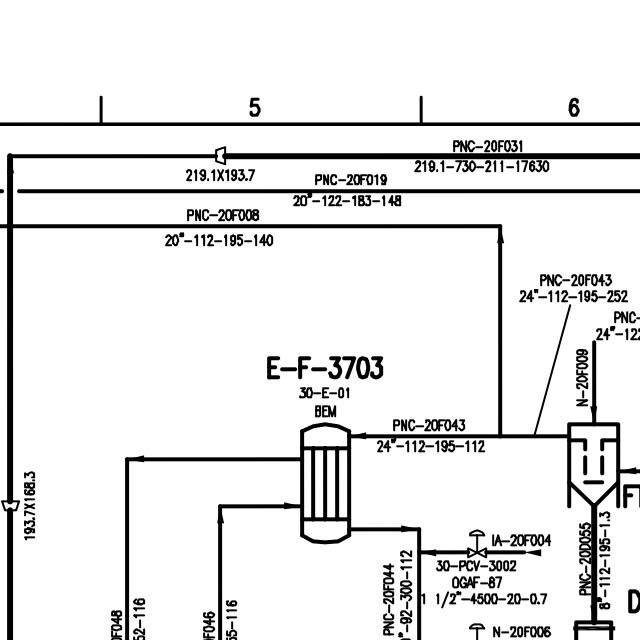E2: (293, 416, 359, 546)
FT2: (559, 413, 627, 516)
